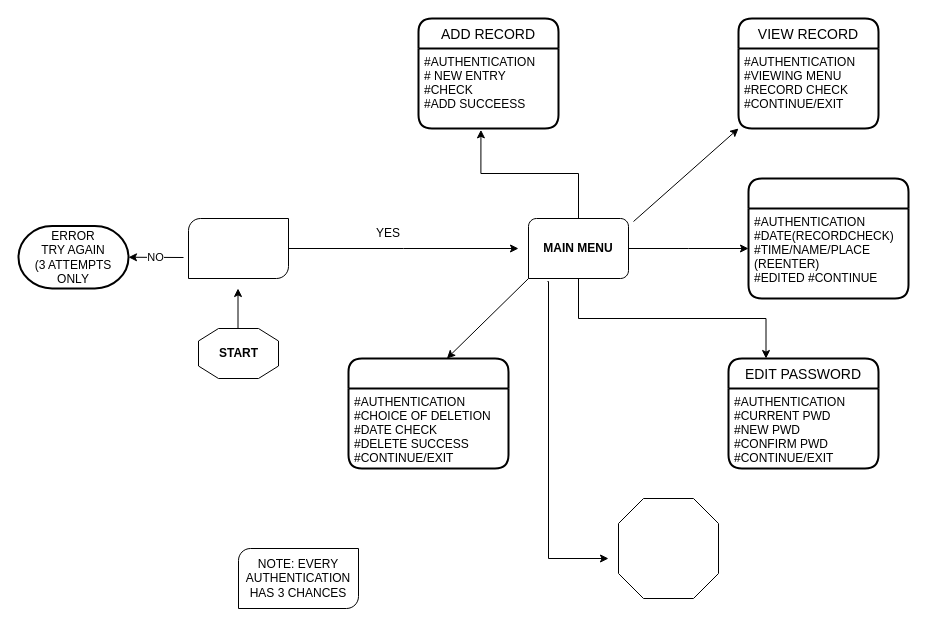
The diagram is 926 pixels wide and 626 high, and some of its shapes have lost their labels. Each missing label, with the box of its shape:
DELETE RECORD: (347, 357, 509, 469)
EDIT RECORD: (747, 177, 909, 299)
EXIT/CLOSE: (618, 498, 718, 598)
LOGIN *USERNAME &PASSWORD: (188, 218, 288, 278)
